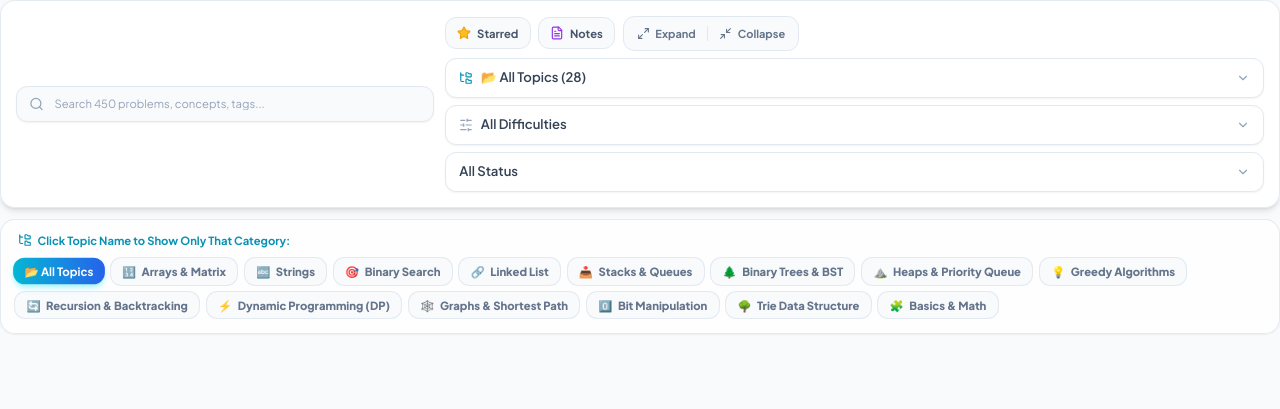
Test case: SheetFilters Component UI Unit Tests › opens Topic dropdown filter when clicked
Click the button "📂 All Topics (28)": click(534, 77) left=445, top=58, right=1264, bottom=98
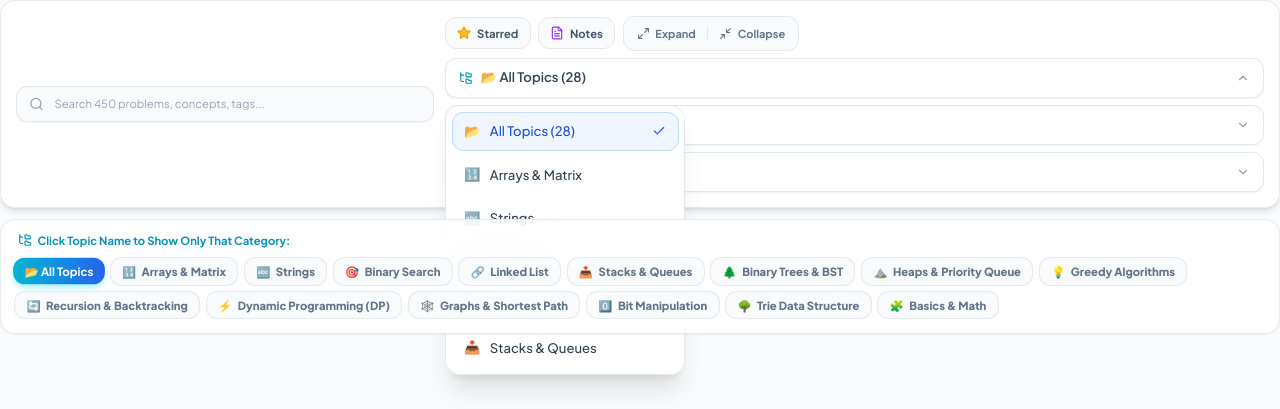
Check: the 1st text "Arrays & Matrix" is shown, box left=490, top=166, right=582, bottom=184
